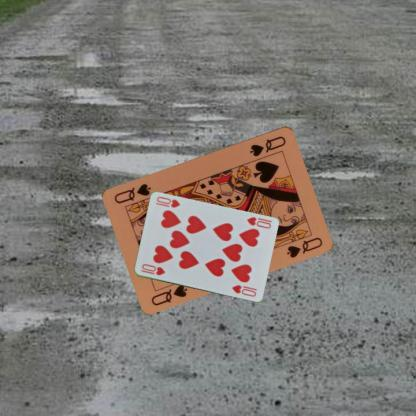10h: (138, 261, 166, 277), (244, 214, 272, 230)
Qs: (148, 281, 189, 307), (247, 133, 287, 158)
